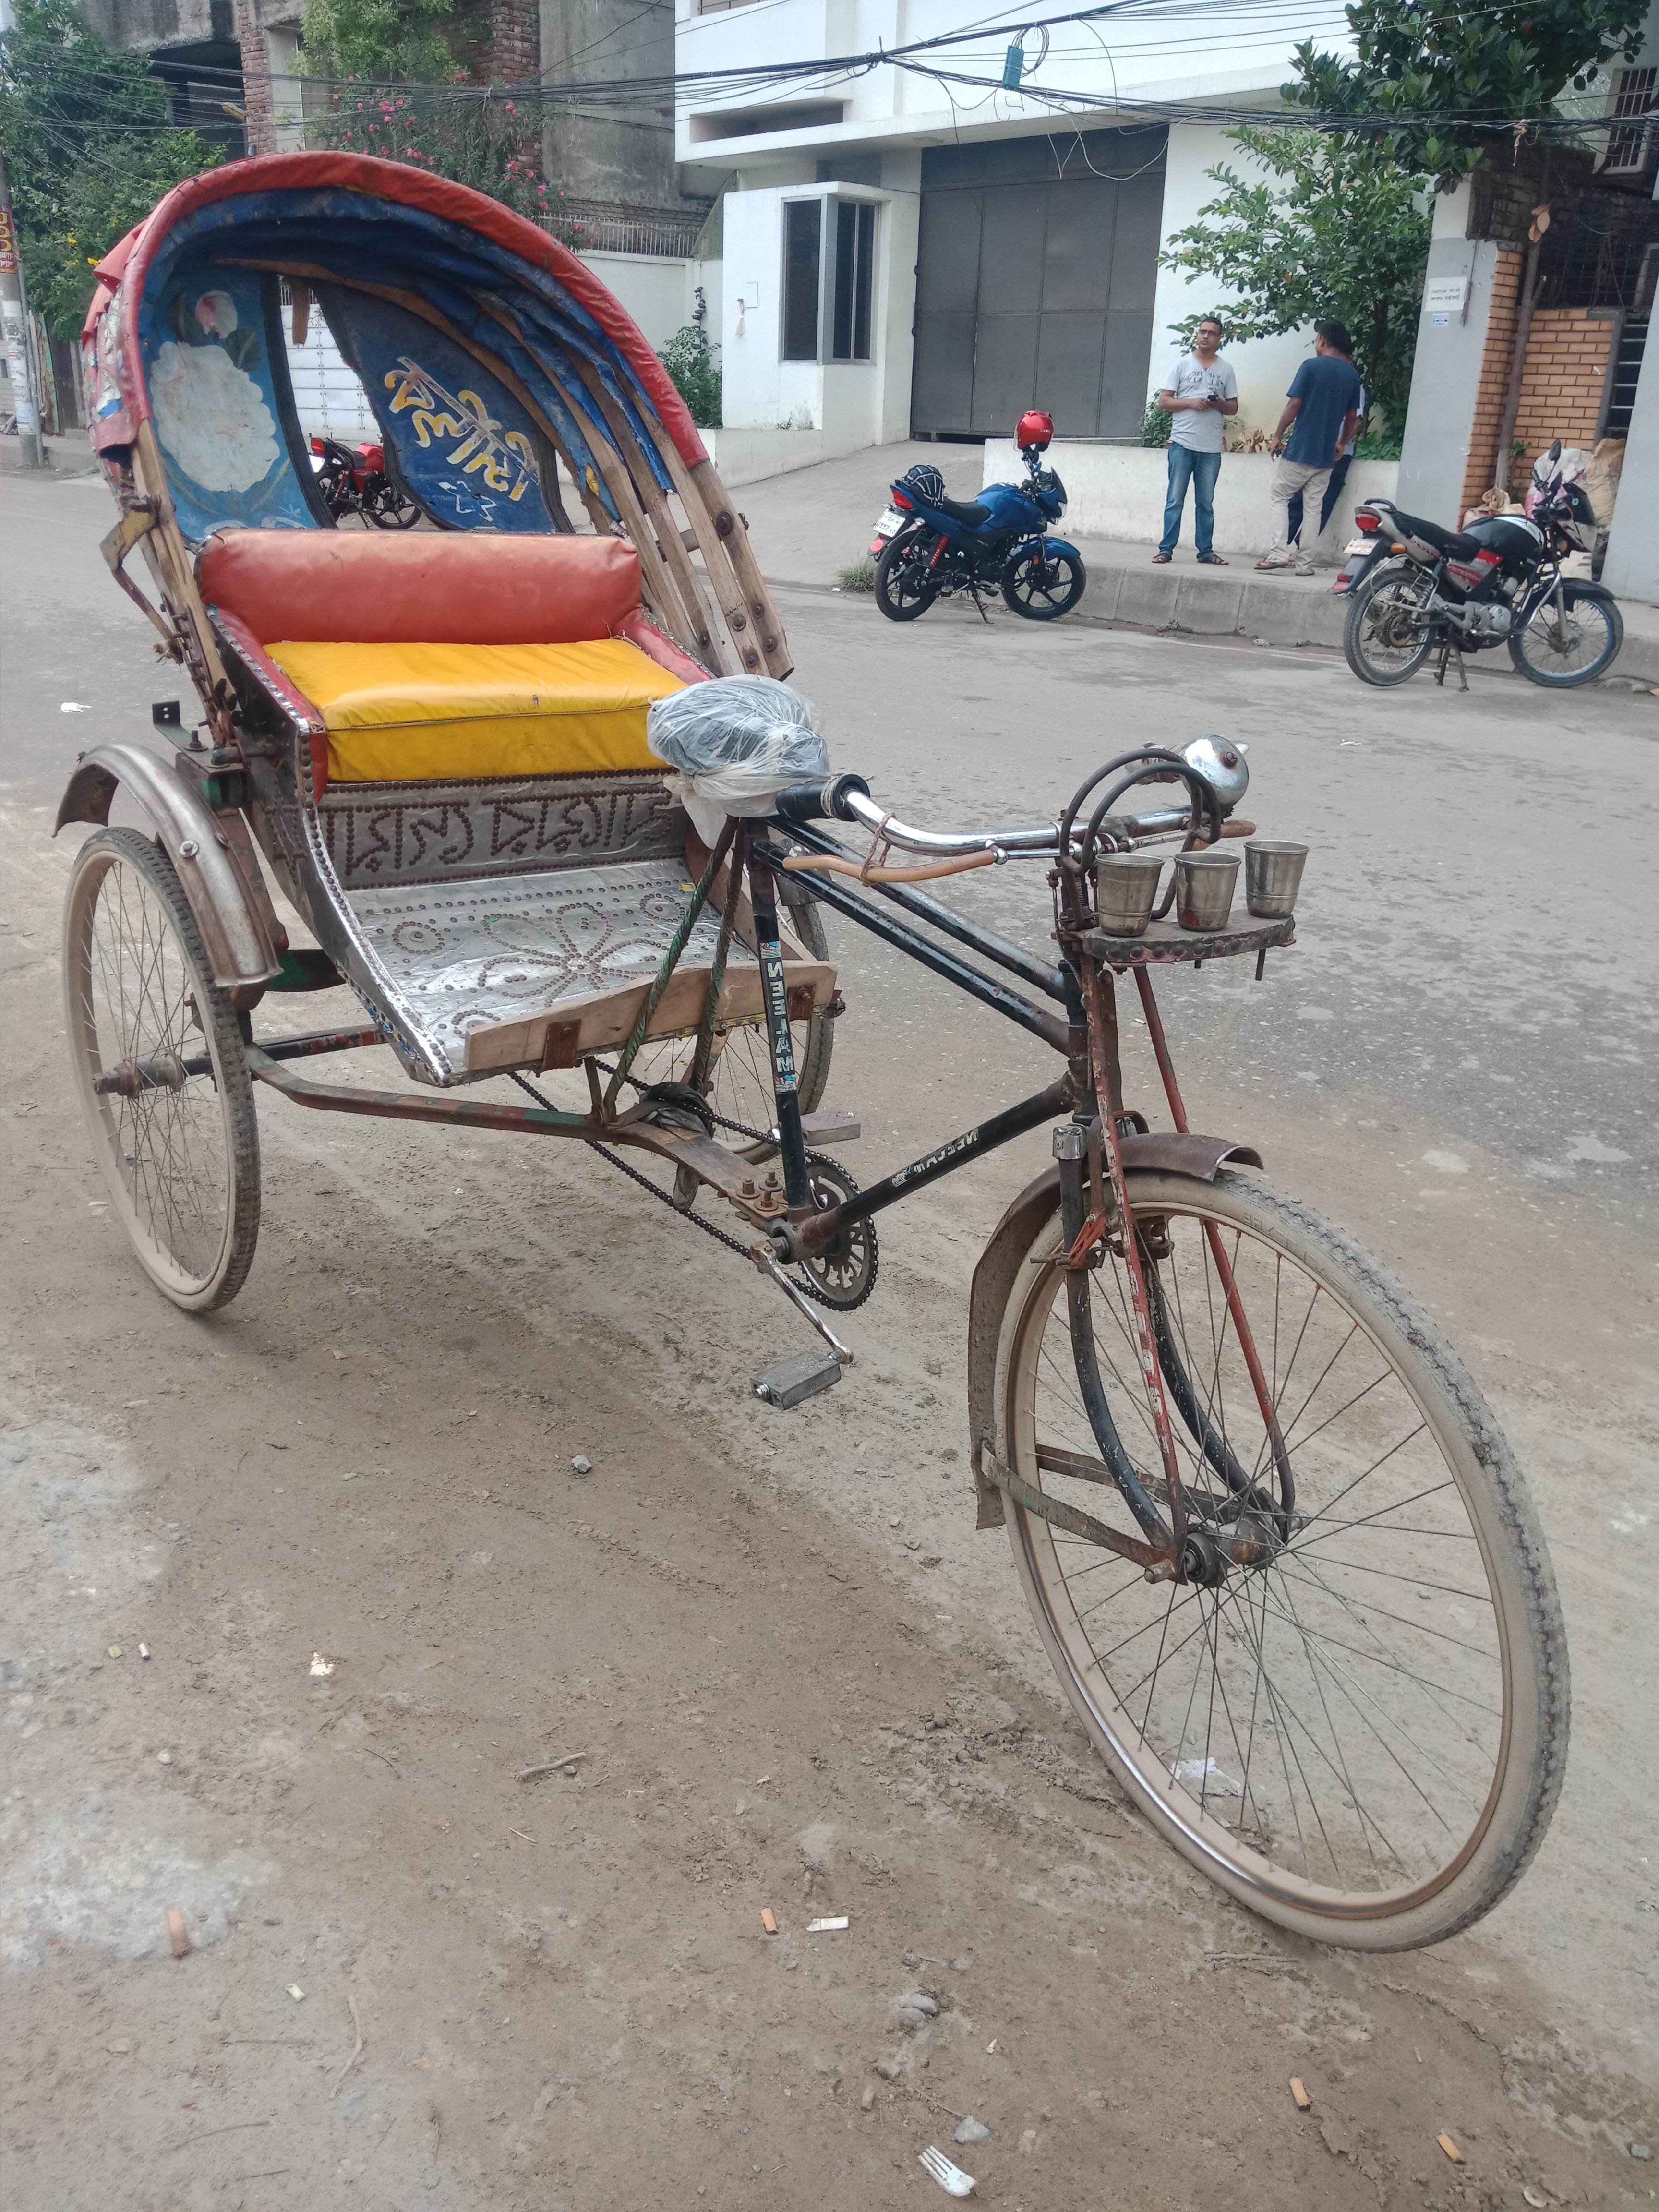Rickshaw: (28, 110, 1605, 1959)
